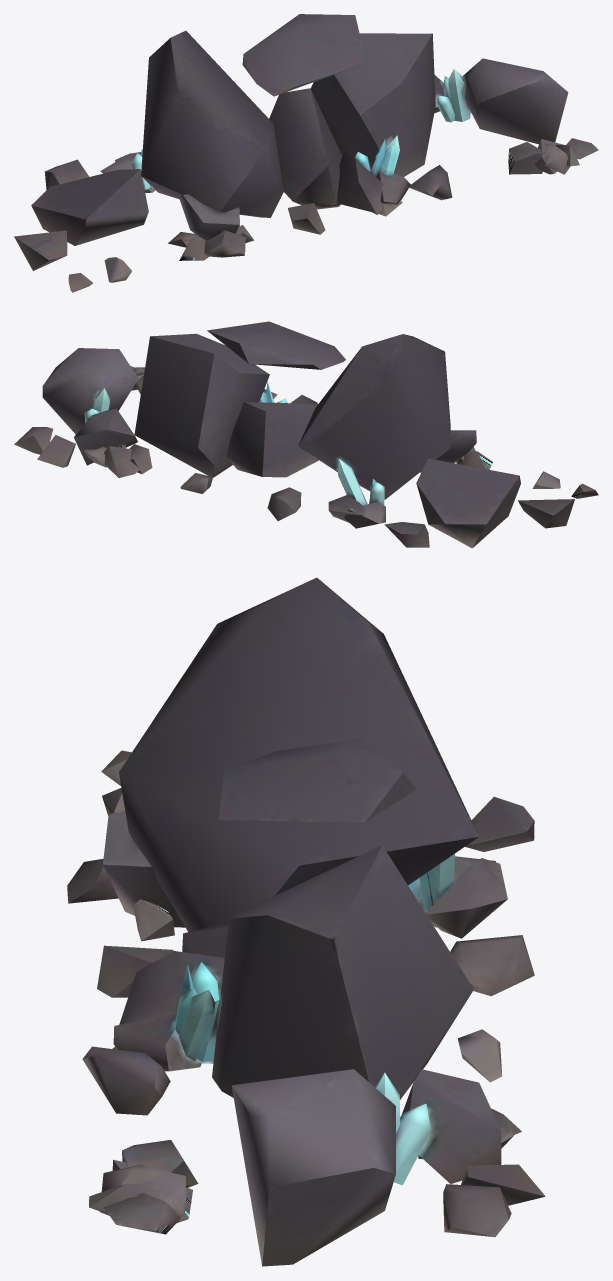
The model's file is ridge-cave.low.glb.
The picture shows the model from 3 angles, top to bottom: view 1: azimuth 30°, elevation 25°; view 2: azimuth 150°, elevation 25°; view 3: azimuth 270°, elevation 25°; orthographic projection. The views are drawn at different scales.
Visible parts, largest first — view 1: ridge-cave; view 2: ridge-cave; view 3: ridge-cave.
Part boxes in pixels (x1=…): ridge-cave: x1=14, y1=14, x2=598, y2=292; ridge-cave: x1=14, y1=321, x2=598, y2=548; ridge-cave: x1=67, y1=577, x2=545, y2=1266.
Bounding box in the file's own units: 2.99 × 0.9925 × 1.22.
1 material, 1 textured.
